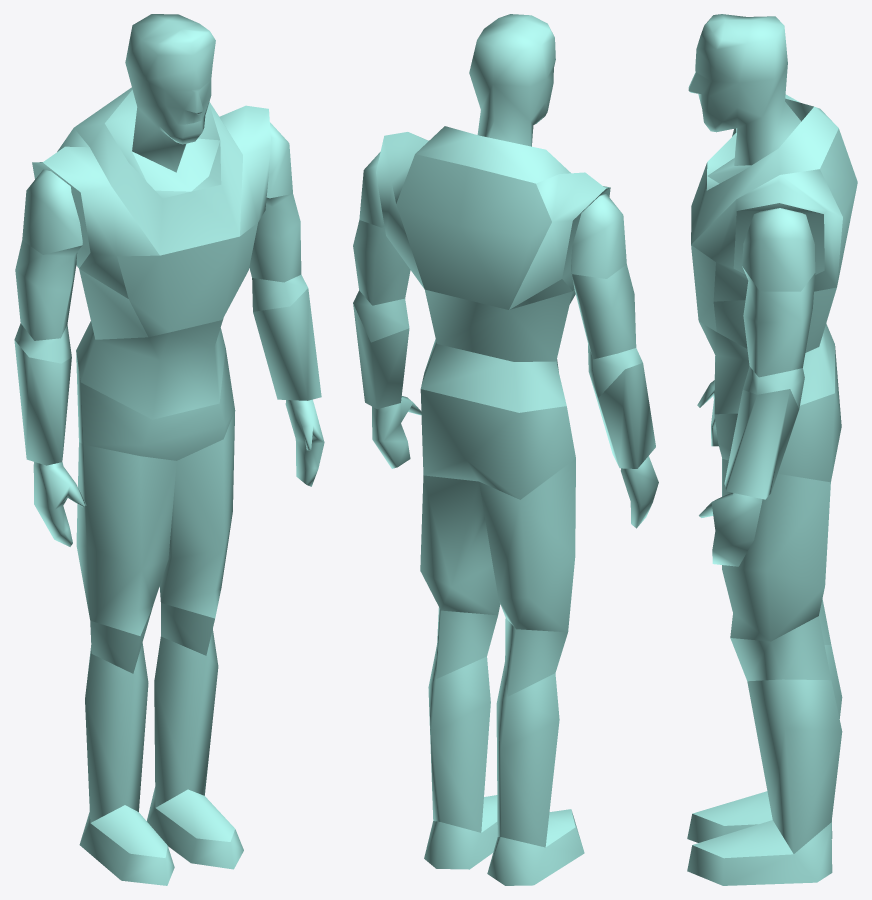
File: player.fbx
3 views of the same model, side by side, from view 1: azimuth 30°, elevation 25°; view 2: azimuth 150°, elevation 25°; view 3: azimuth 270°, elevation 25° (orthographic).
Parts seen in each view (by area): view 1: playertemp; view 2: playertemp; view 3: playertemp.
Part boxes in pixels (x1,y1,x2,y2): playertemp: [14, 14, 324, 885]; playertemp: [353, 14, 658, 885]; playertemp: [687, 14, 857, 885].
Bounding box in the file's own units: 2553 × 7281 × 1347.
